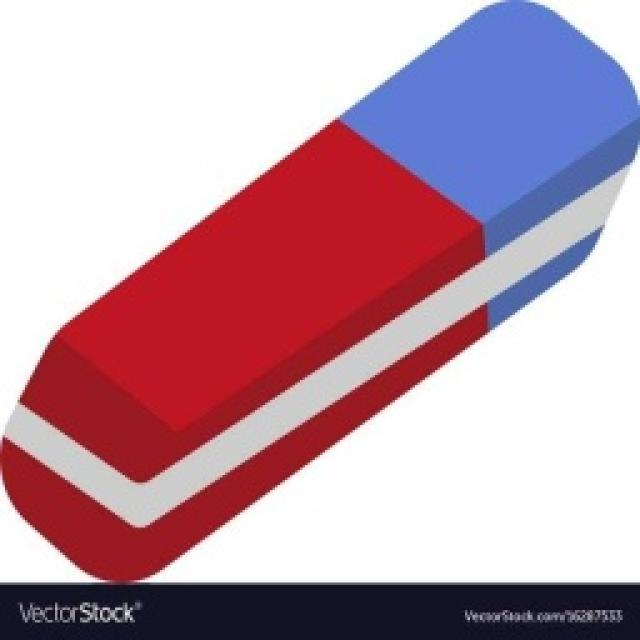Silgi: (2, 2, 640, 582)
